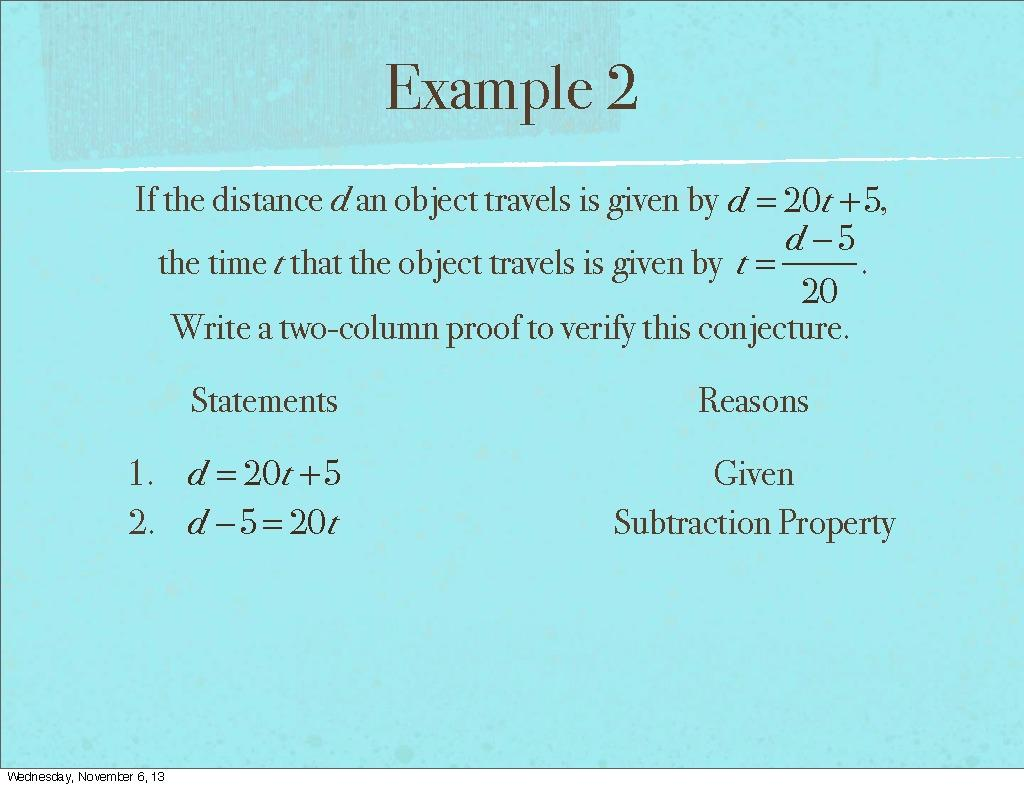paragraph: (105, 167, 946, 586)
title: (370, 35, 668, 126)
